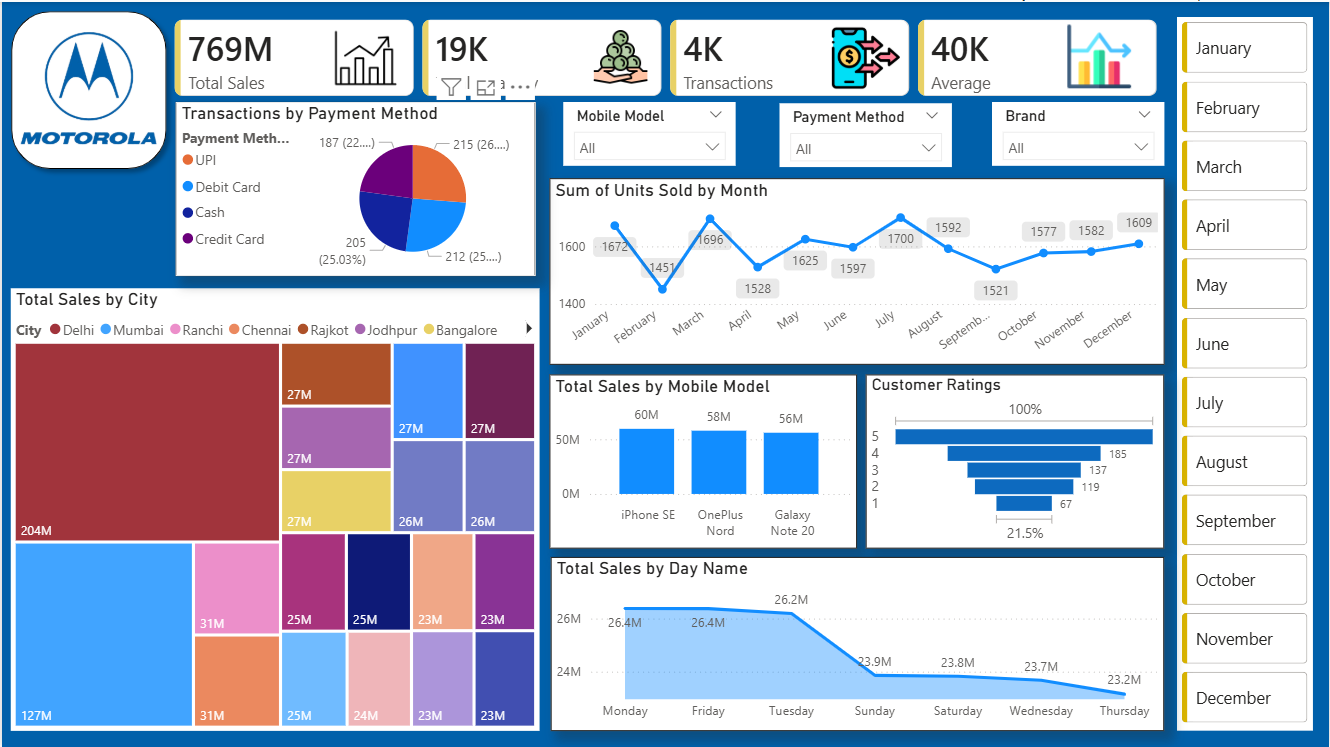

This screenshot's page, from the dashboard's own definition file:
{"tool":"powerbi","page":{"name":"Page 1","canvas":[1280,720],"ordinal":0},"visuals":[{"type":"shape","box":[0,0,167.7,170.1],"z":0},{"type":"image","box":[18.1,12.1,131.5,142.4],"z":1000},{"type":"lineChart","fields":{"Y":["Sum(Sales_Data.Units Sold)"],"Category":["Sales_Data.Date.Variation.Date Hierarchy.Month","Sales_Data.Date.Variation.Date Hierarchy.Day"]},"box":[528.4,170.1,593.6,179.8],"z":2000},{"type":"advancedSlicerVisual","fields":{"Values":["Sales_Data.Date.Variation.Date Hierarchy.Month"]},"box":[1134.1,14.5,131.5,688.9],"z":3000},{"type":"cardVisual","fields":{"Data":["Sales_Data.Total Sales","Sales_Data.Total Quantity","Sales_Data.Transactions","Sales_Data.Average"]},"box":[149.6,0,984.5,108.6],"z":4000},{"type":"image","box":[284.7,16.9,132.7,74.8],"z":5000},{"type":"image","box":[569.4,20.5,55.5,65.1],"z":6000},{"type":"image","box":[1014.6,21.7,89.3,61.5],"z":7000},{"type":"image","box":[774.5,21.7,118.2,65.1],"z":8000},{"type":"treemap","fields":{"Group":["Sales_Data.City"],"Values":["Sales_Data.Total Sales"]},"box":[8.4,276.3,510.3,427.1],"z":9000},{"type":"clusteredColumnChart","fields":{"Category":["Sales_Data.Mobile Model"],"Y":["Sales_Data.Total Sales"]},"box":[528.4,359.5,296.8,167.7],"z":10000},{"type":"pieChart","fields":{"Category":["Sales_Data.Payment Method"],"Y":["Sales_Data.Transactions"]},"box":[167.7,96.5,347.5,167.7],"z":11000},{"type":"funnel","title":" Customer Ratings","fields":{"Category":["Sales_Data.Customer Ratings"],"Y":["CountNonNull(Sales_Data.Customer Ratings)"]},"box":[833.7,359.5,288.3,167.7],"z":12000},{"type":"areaChart","fields":{"Category":["Sales_Data.Day Name"],"Y":["Sales_Data.Total Sales"]},"box":[529.6,535.7,592.4,167.7],"z":13000},{"type":"slicer","fields":{"Values":["Sales_Data.Mobile Model"]},"box":[541.7,96.5,166.5,61.5],"z":14000},{"type":"slicer","fields":{"Values":["Sales_Data.Payment Method"]},"box":[750.4,97.7,166.5,61.5],"z":14001},{"type":"slicer","fields":{"Values":["Sales_Data.Brand"]},"box":[955.5,96.5,166.5,61.5],"z":14002}]}

Visuals, with their boxes in screenshot pixels (x1, y1, x2, y2), scaled from the page's 1280x720 canvas onto the 1330x747 screenshot:
shape: 0,0,174,176
image: 19,13,155,160
lineChart - Sum(Sales_Data.Units Sold) x Sales_Data.Date.Variation.Date Hierarchy.Month: 549,176,1166,363
advancedSlicerVisual - Sales_Data.Date.Variation.Date Hierarchy.Month: 1178,15,1315,730
cardVisual - Sales_Data.Total Sales x Sales_Data.Total Quantity: 155,0,1178,113
image: 296,18,434,95
image: 592,21,649,89
image: 1054,23,1147,86
image: 805,23,928,90
treemap - Sales_Data.City x Sales_Data.Total Sales: 9,287,539,730
clusteredColumnChart - Sales_Data.Mobile Model x Sales_Data.Total Sales: 549,373,857,547
pieChart - Sales_Data.Payment Method x Sales_Data.Transactions: 174,100,535,274
" Customer Ratings" funnel: 866,373,1166,547
areaChart - Sales_Data.Day Name x Sales_Data.Total Sales: 550,556,1166,730
slicer - Sales_Data.Mobile Model: 563,100,736,164
slicer - Sales_Data.Payment Method: 780,101,953,165
slicer - Sales_Data.Brand: 993,100,1166,164
